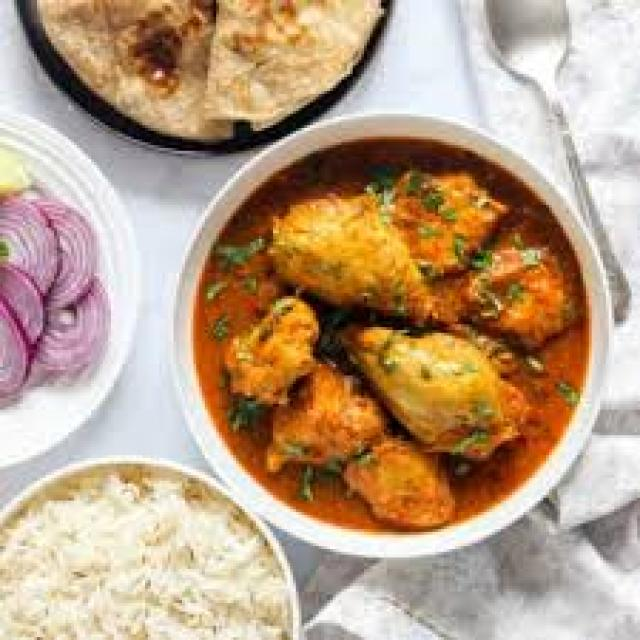Chicken Curry: (176, 139, 592, 532)
